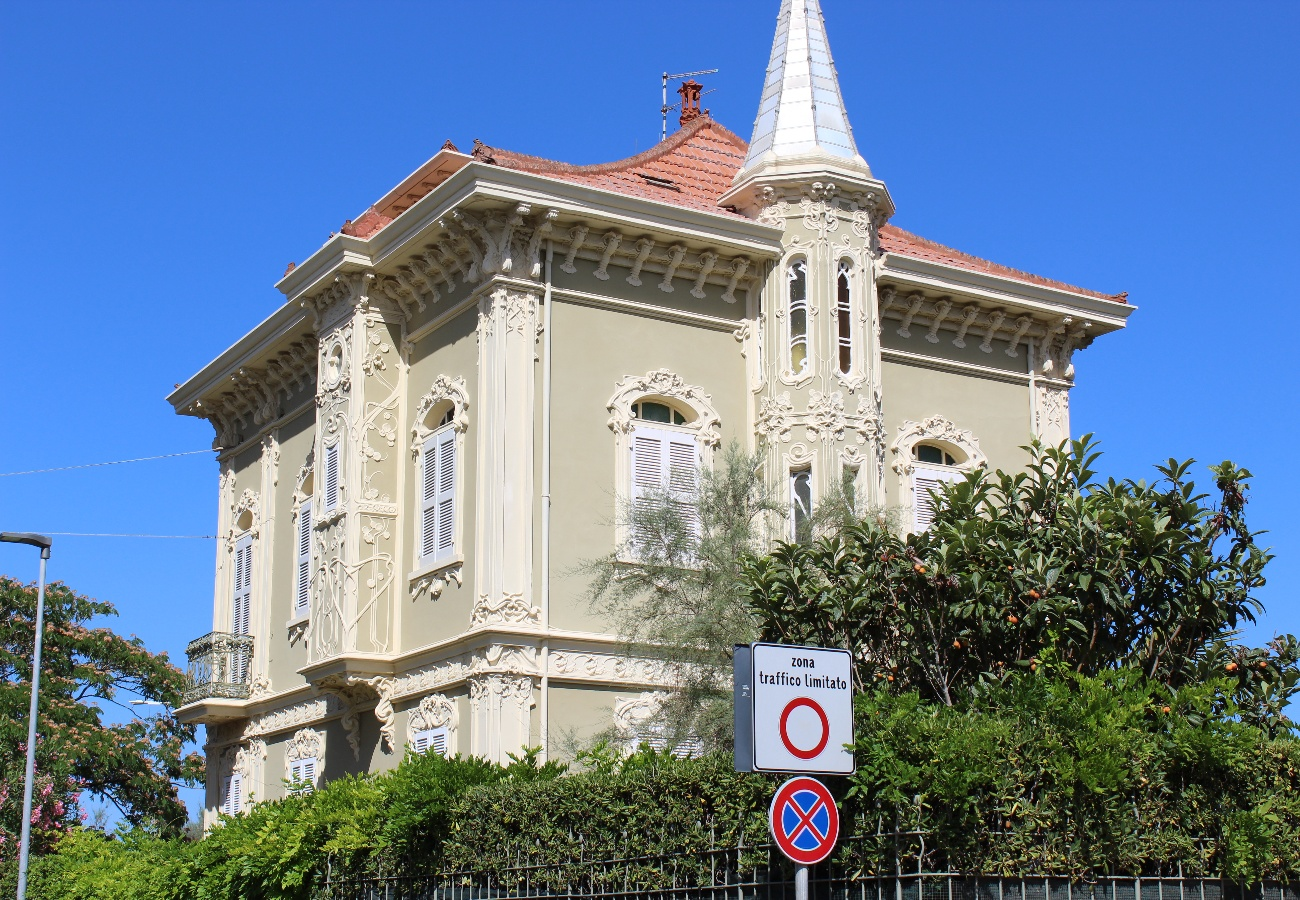Villino Ruggeri: (161, 9, 1145, 863)
